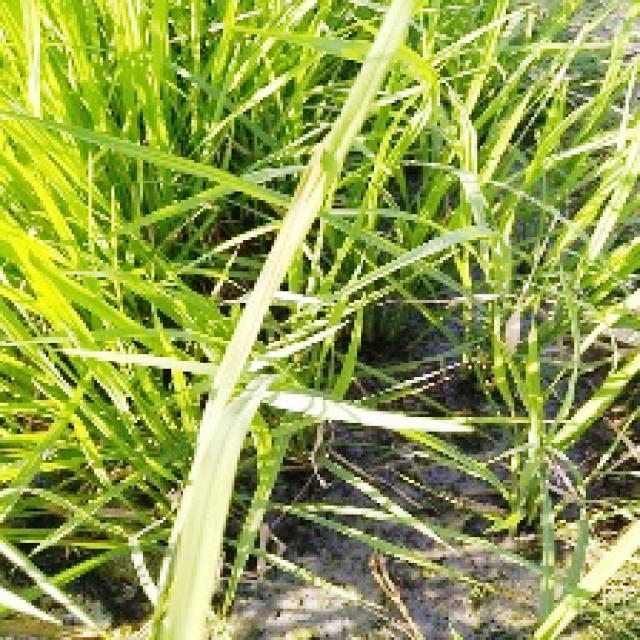health: (0, 0, 304, 503)
